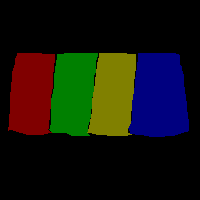mutande: (128, 52, 189, 137), (87, 52, 136, 136), (49, 53, 98, 136), (7, 53, 55, 135)
